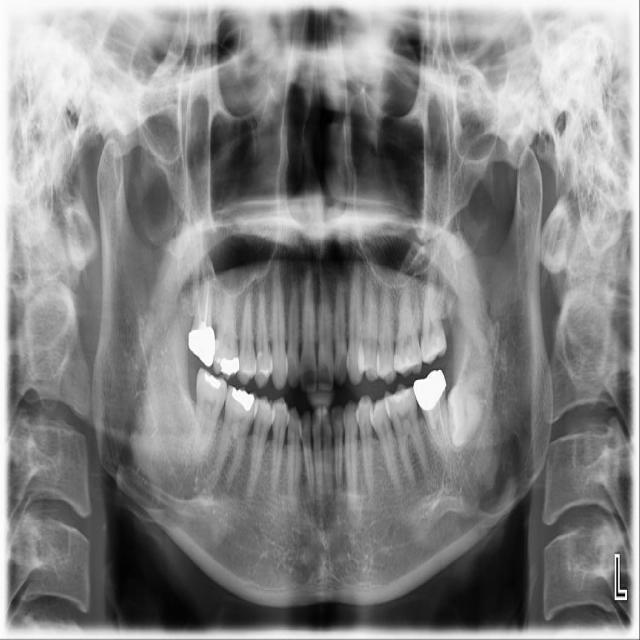52: (377, 377, 427, 430), (408, 367, 456, 417), (217, 383, 264, 432), (410, 322, 458, 368), (188, 366, 234, 412), (188, 318, 215, 367), (212, 335, 240, 381), (394, 339, 422, 378), (235, 342, 259, 386), (253, 344, 275, 390)
73: (422, 400, 454, 465), (192, 253, 214, 326), (578, 548, 584, 572)
BioHorizons Implant: (419, 266, 452, 367)
Biomet 3i Implant: (444, 369, 495, 448)
Blue Sky Bio Implant: (411, 368, 459, 466)
Caries: (188, 252, 215, 367)
Implant: (192, 367, 229, 456)
